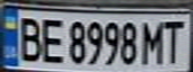8: (118, 18, 142, 66), (63, 17, 87, 65)
9: (84, 18, 106, 66), (103, 18, 124, 66)
B: (12, 14, 45, 63)
E: (36, 15, 66, 64)
M: (139, 17, 169, 65)
T: (157, 16, 187, 65)
